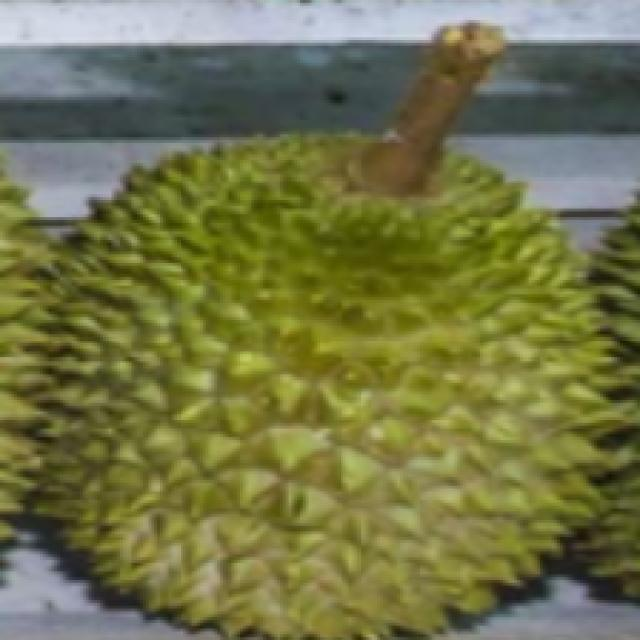d197: (28, 97, 622, 634)
